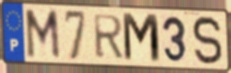3: (159, 15, 190, 65)
7: (63, 8, 88, 63)
M: (120, 11, 163, 66), (23, 8, 62, 62)
R: (92, 14, 125, 61)
S: (191, 14, 225, 67)
